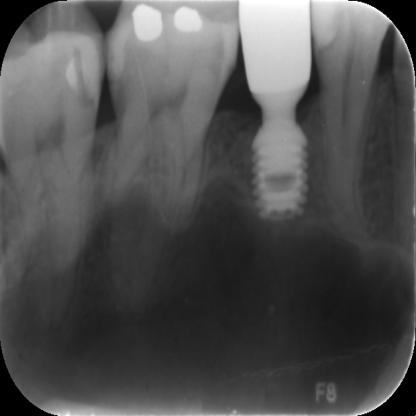Bicon: (245, 121, 314, 228)
